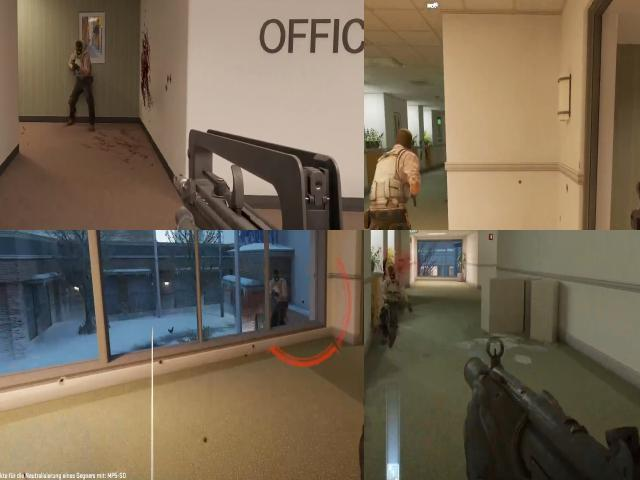Dead: (380, 267, 404, 334)
T: (364, 122, 425, 225), (70, 35, 90, 89), (270, 265, 290, 312), (74, 40, 85, 57)
T-Head: (388, 124, 419, 159), (270, 268, 284, 286)
